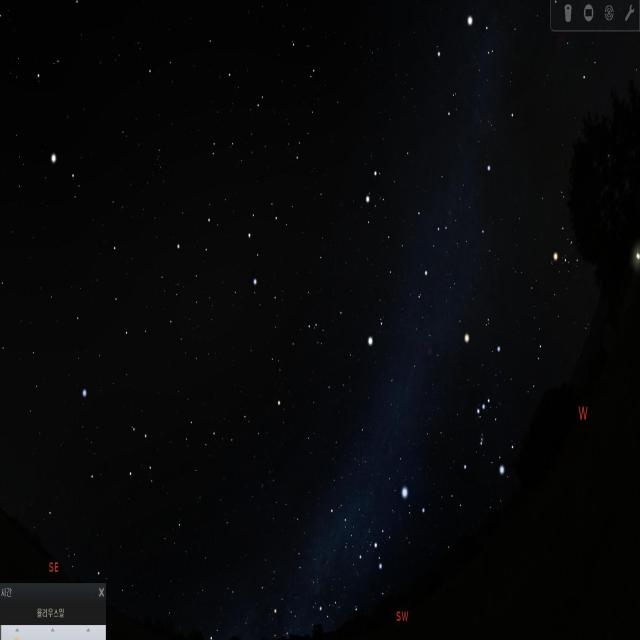bootes: (0, 0, 77, 175)
canis_major: (366, 475, 433, 582)
canis_minor: (364, 316, 391, 358)
gemini: (361, 154, 457, 290)
leo: (169, 196, 287, 311)
orion: (452, 324, 508, 482)
taurus: (547, 188, 618, 298)
